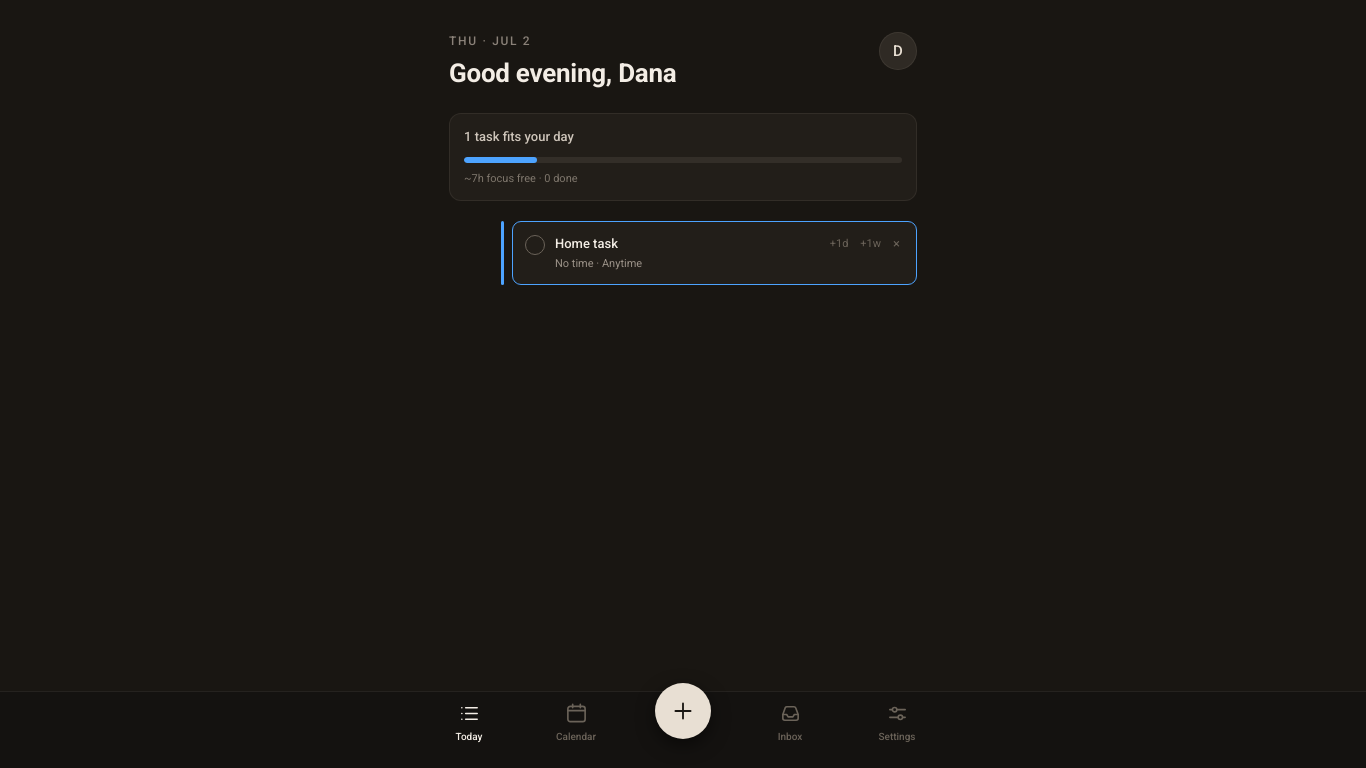
Test case: Home tab navigation › switches to Inbox and shows the empty state
Click the button "Inbox". click: click(790, 723)
box: [762, 702, 818, 744]
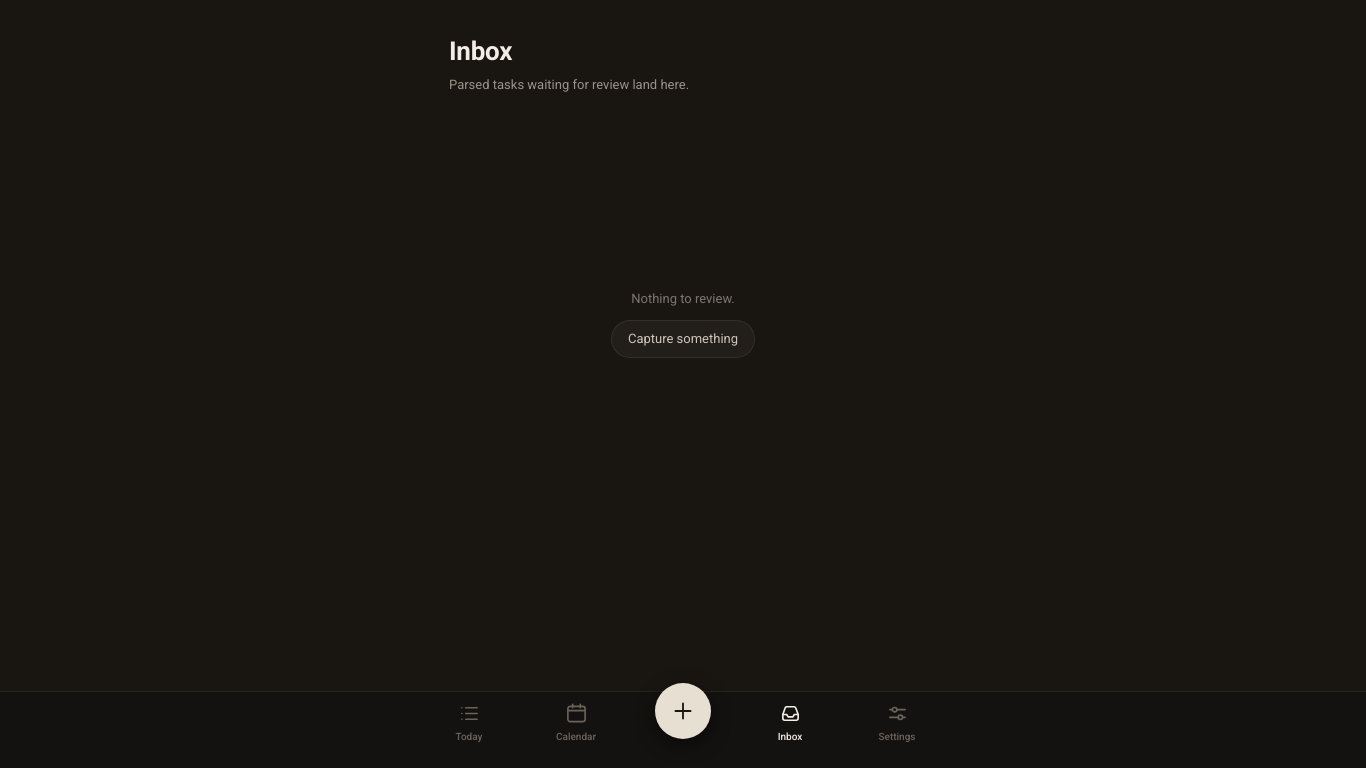
expect the heading "Inbox" is shown: met, box [449, 36, 512, 66]
